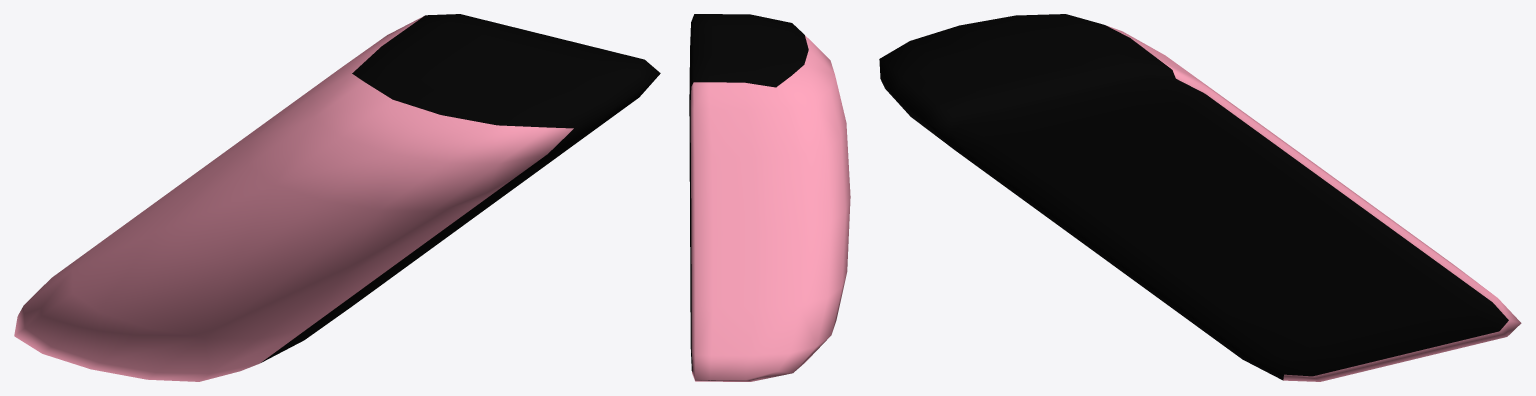
3 views of the same model, side by side, from view 1: azimuth 30°, elevation 25°; view 2: azimuth 150°, elevation 25°; view 3: azimuth 270°, elevation 25° (orthographic). The views are drawn at different scales.
Parts seen in each view (by area): view 1: Box1243; view 2: Box1243; view 3: Box1243.
Part boxes in pixels (x1,y1,x2,y2): Box1243: [14, 14, 660, 381]; Box1243: [689, 14, 850, 381]; Box1243: [879, 14, 1521, 381].
Size of the model in its own units: 0.0441 by 0.0357 by 0.0578.
